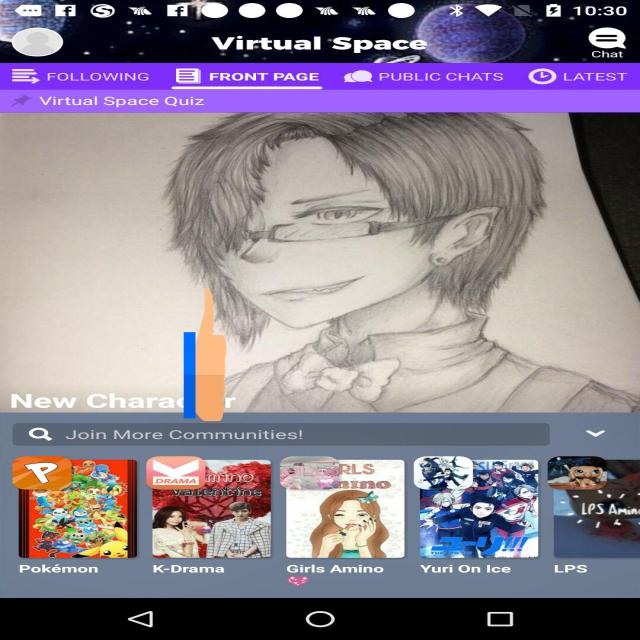privacy zuckering: (184, 285, 226, 424)
